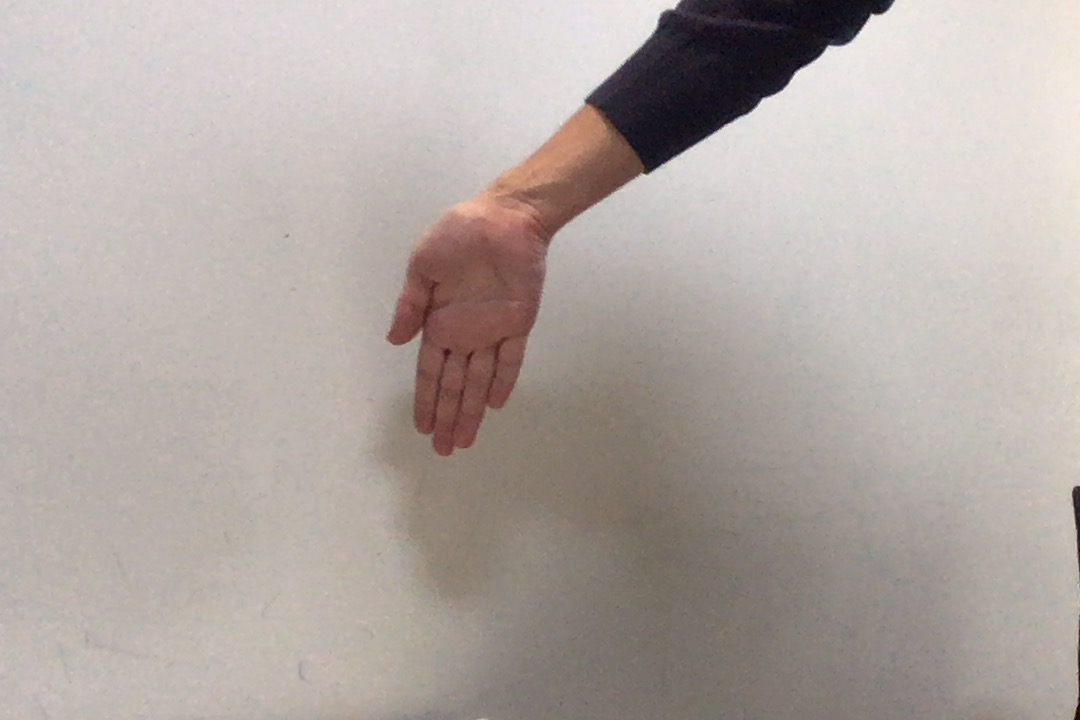palmhand: (378, 197, 546, 460)
